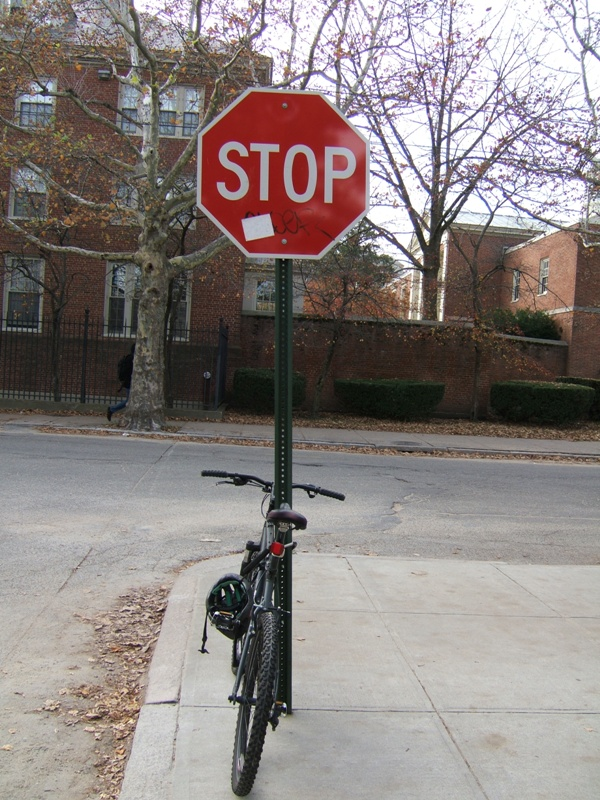stop_sign: (195, 88, 371, 263)
